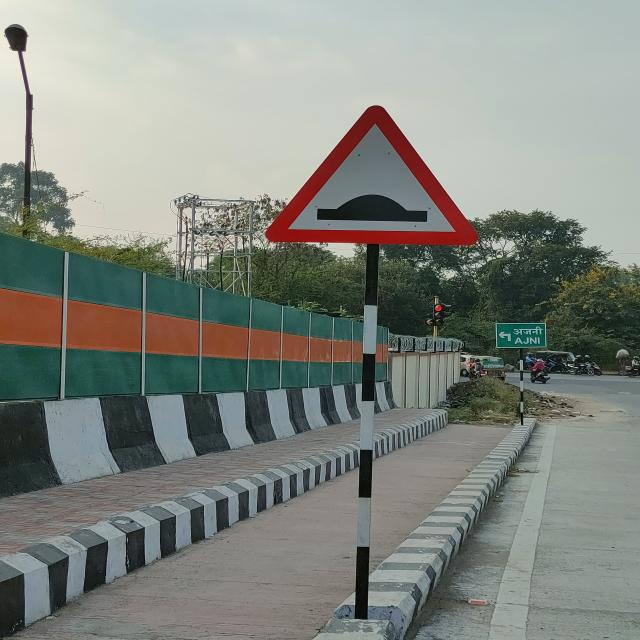horn_prohibited: (266, 106, 478, 246)
